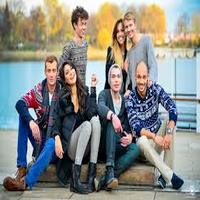person: (131, 57, 160, 105), (66, 3, 92, 50), (102, 51, 127, 97), (38, 49, 61, 95), (107, 11, 126, 59), (124, 9, 144, 53), (59, 60, 83, 94)
